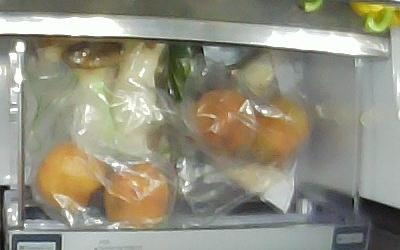peach_vinyl: (36, 145, 106, 213), (245, 97, 313, 165), (191, 89, 255, 157), (104, 162, 171, 224)
